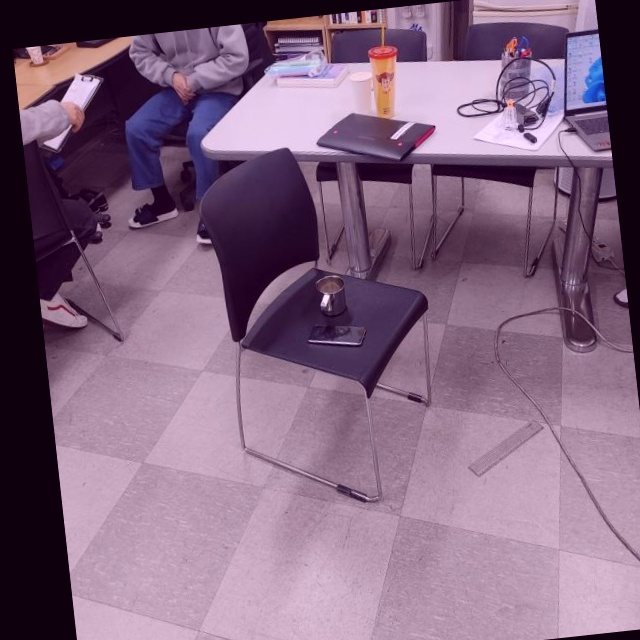cup: (312, 273, 351, 322)
phone: (307, 318, 368, 352)
